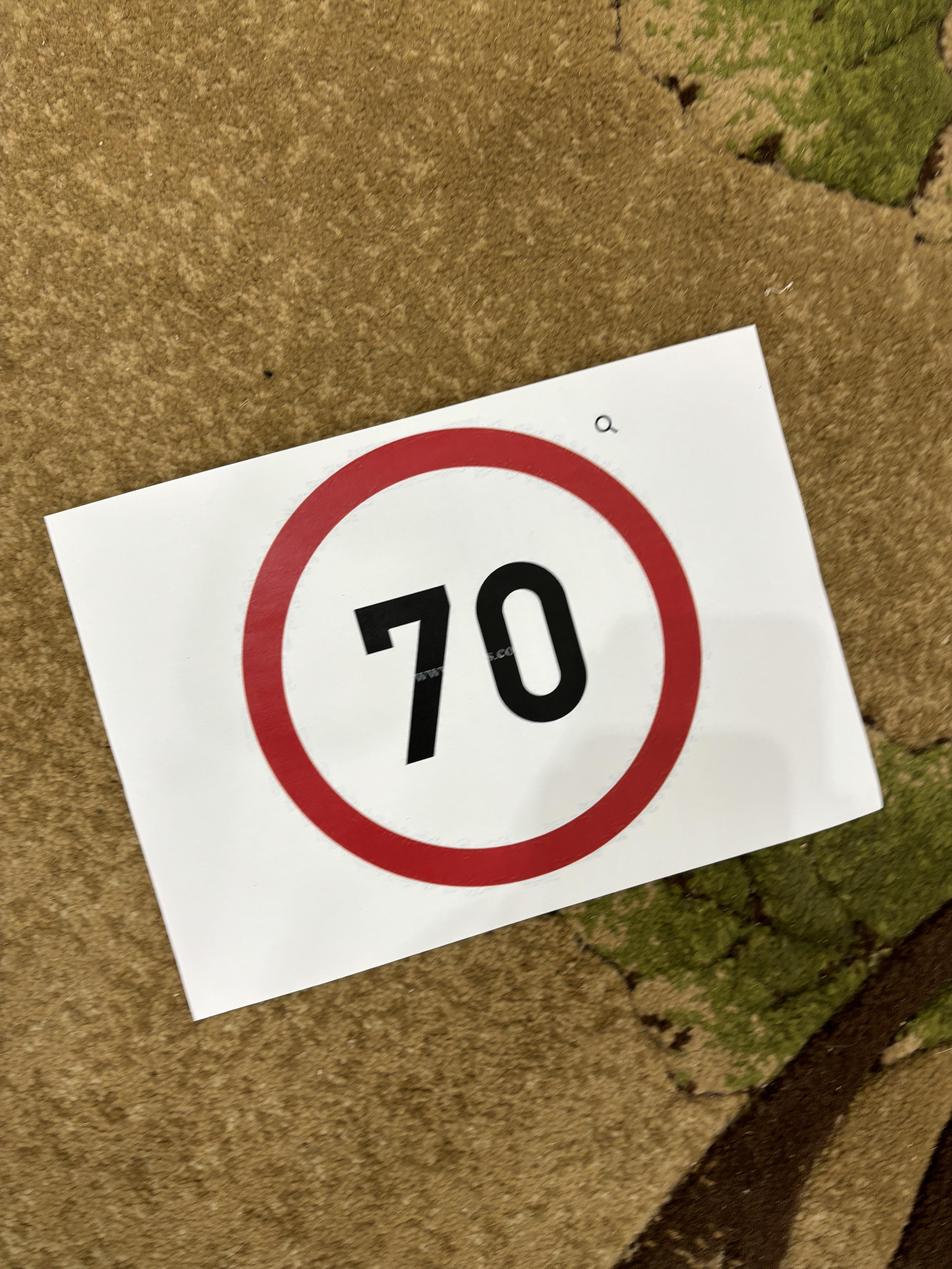70-Speed: (239, 420, 709, 888)
